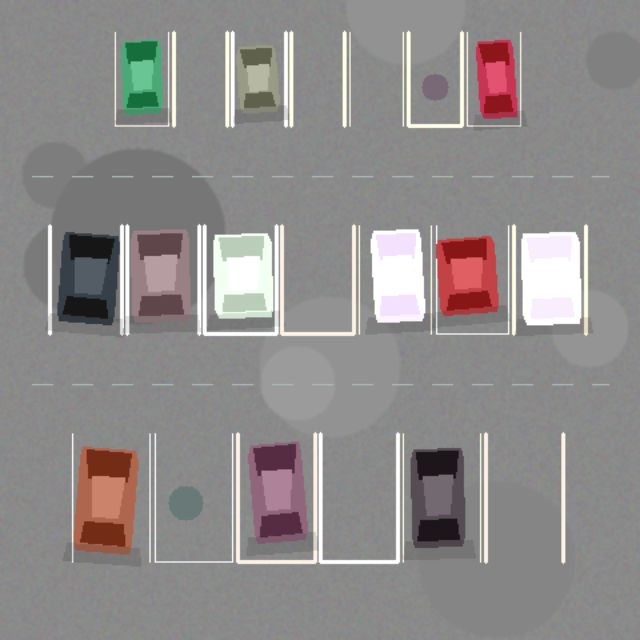space-empty: (485, 433, 563, 561), (155, 433, 232, 561), (320, 433, 397, 561), (281, 225, 353, 333), (173, 32, 227, 125), (349, 32, 403, 125), (291, 32, 344, 125), (408, 32, 461, 125)
space-occupied: (237, 433, 315, 561), (72, 433, 149, 561), (403, 433, 480, 561), (49, 225, 121, 333), (127, 225, 199, 333), (204, 225, 276, 333), (359, 225, 431, 333), (436, 225, 508, 333), (513, 225, 585, 333), (115, 32, 168, 125), (232, 32, 285, 125), (467, 32, 520, 125)
